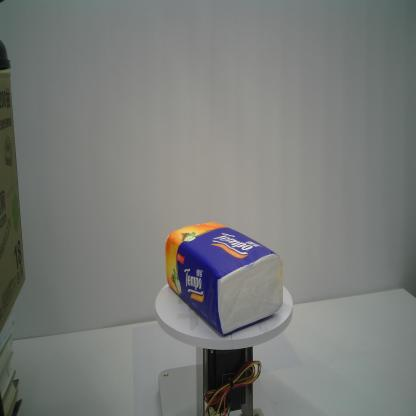Tissue: (166, 220, 283, 336)
